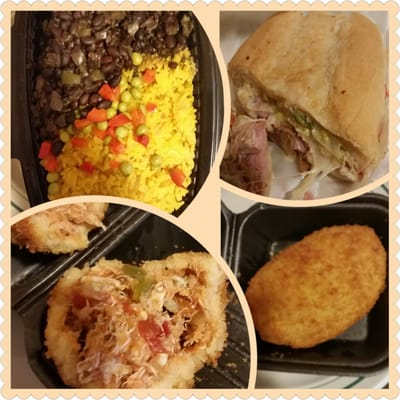soup: (227, 11, 391, 195)
